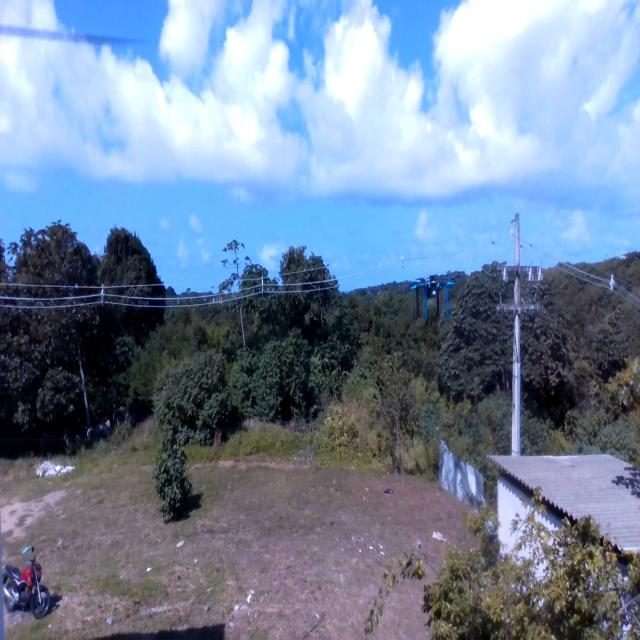-uav-: (408, 258, 462, 329)
